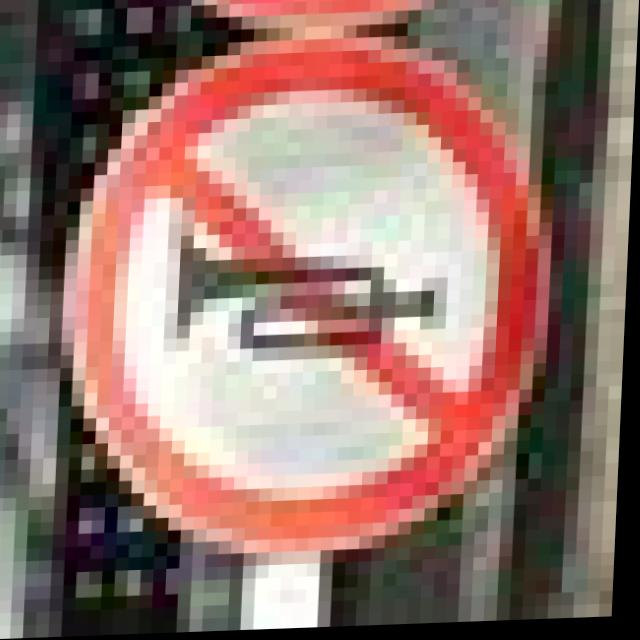HORN_PROHIBITED: (55, 41, 562, 565)
